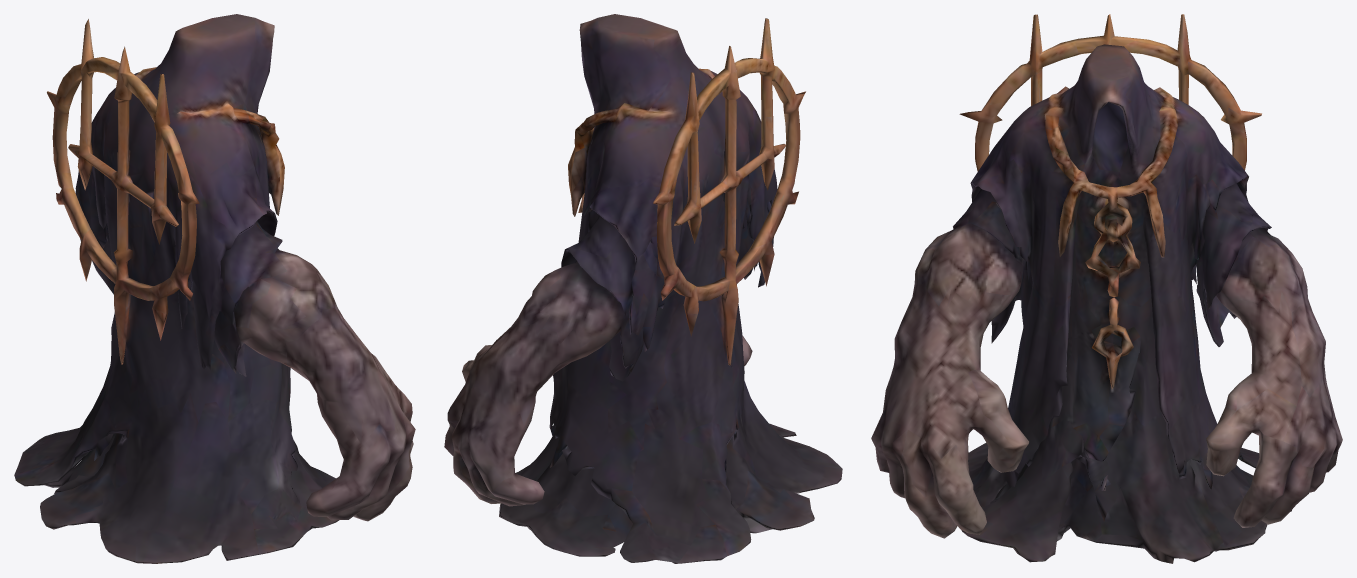
3 renders of one model, left to right at view 1: azimuth 30°, elevation 25°; view 2: azimuth 150°, elevation 25°; view 3: azimuth 270°, elevation 25°, orthographic.
Visible parts, largest first — view 1: tripo_node_19c5ab82-b800-48d4-9bbe-e9a958e65da0; view 2: tripo_node_19c5ab82-b800-48d4-9bbe-e9a958e65da0; view 3: tripo_node_19c5ab82-b800-48d4-9bbe-e9a958e65da0.
Part boxes in pixels (left/top/right/bottom): tripo_node_19c5ab82-b800-48d4-9bbe-e9a958e65da0: left=14, top=14, right=415, bottom=563; tripo_node_19c5ab82-b800-48d4-9bbe-e9a958e65da0: left=444, top=14, right=842, bottom=563; tripo_node_19c5ab82-b800-48d4-9bbe-e9a958e65da0: left=871, top=14, right=1342, bottom=563.
Bounding box in the file's own units: 1.19 × 1.8 × 1.67.
1 material, 1 textured.
